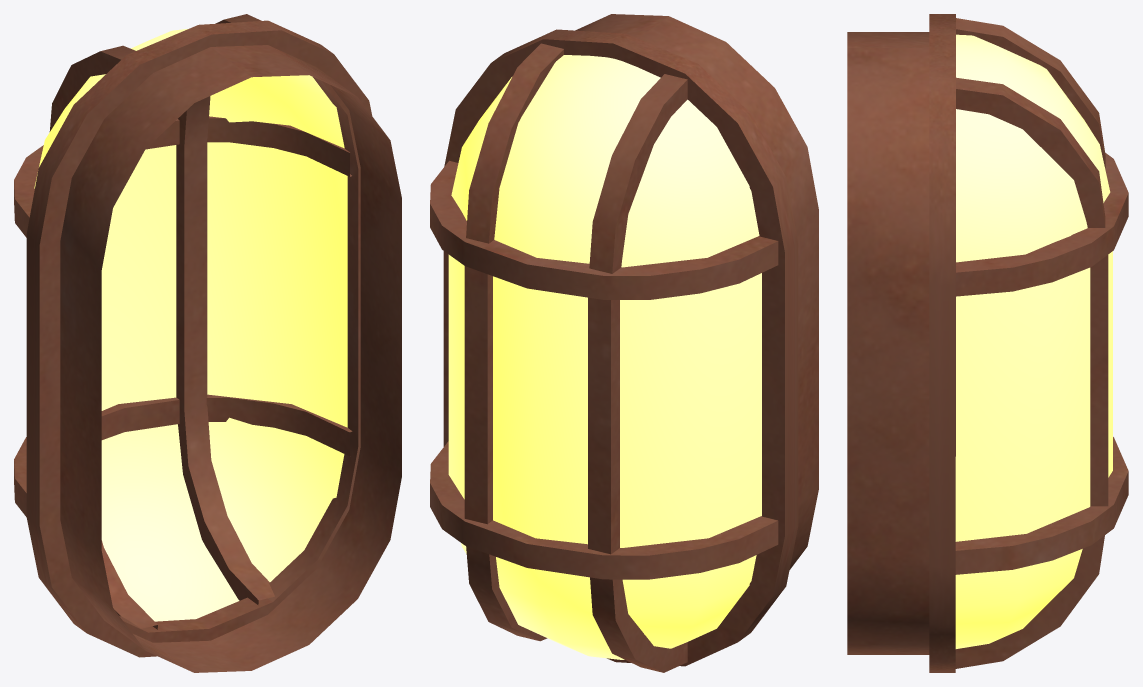
File: Marine_WallMounted_HalfBulb.fbx
3 views of the same model, side by side, from view 1: azimuth 30°, elevation 25°; view 2: azimuth 150°, elevation 25°; view 3: azimuth 270°, elevation 25° (orthographic).
Visible parts, largest first — view 1: Marine_WallMounted_HalfBulb; view 2: Marine_WallMounted_HalfBulb; view 3: Marine_WallMounted_HalfBulb.
Part boxes in pixels (<box>): Marine_WallMounted_HalfBulb: <box>14,14,401,672</box>; Marine_WallMounted_HalfBulb: <box>430,14,818,672</box>; Marine_WallMounted_HalfBulb: <box>847,14,1128,672</box>.
Size of the model in its own units: 21.6 by 37.36 by 15.48.
2 materials, 1 textured.
